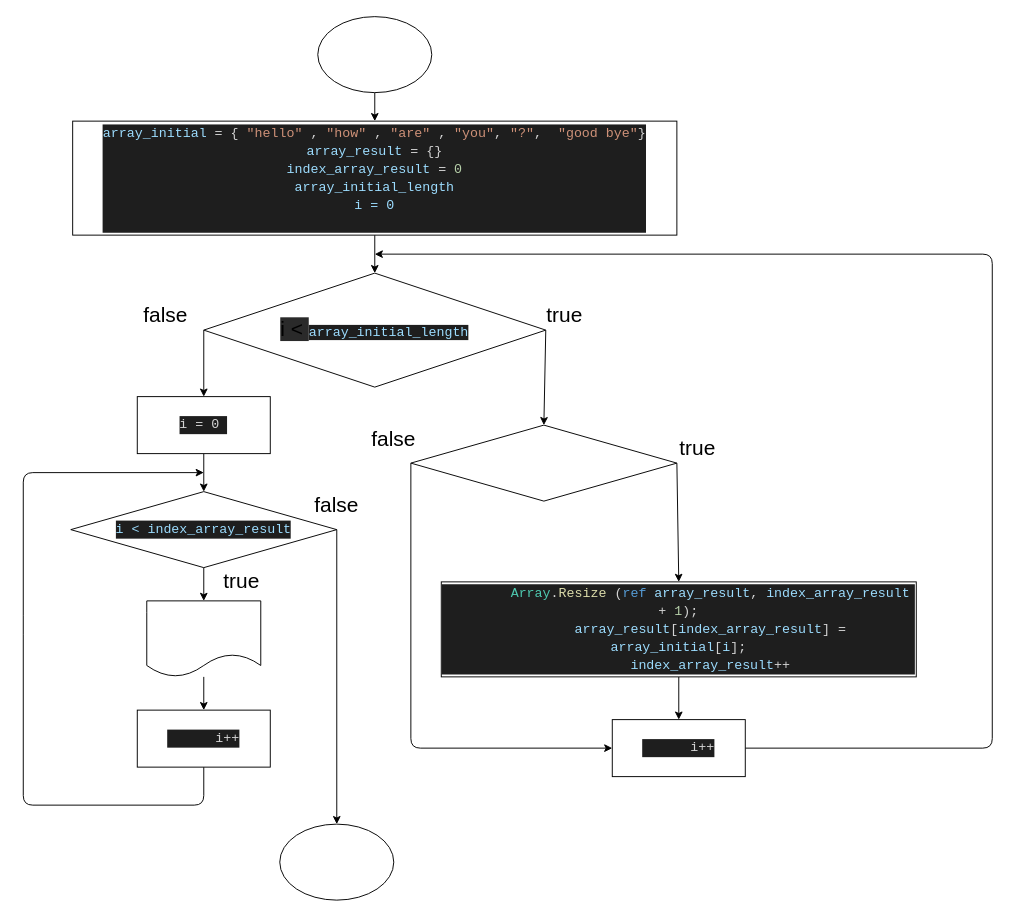
This 1017x917 diagram has some shape labels left out. The shapes that lost their labels are listed below. From the top down, each one's centre as x and y in pixels, then its label:
(374,54): start
(543,462): array_initial [ i ]. Length < 4
(203,638): array_result [ i ]
(336,861): end
